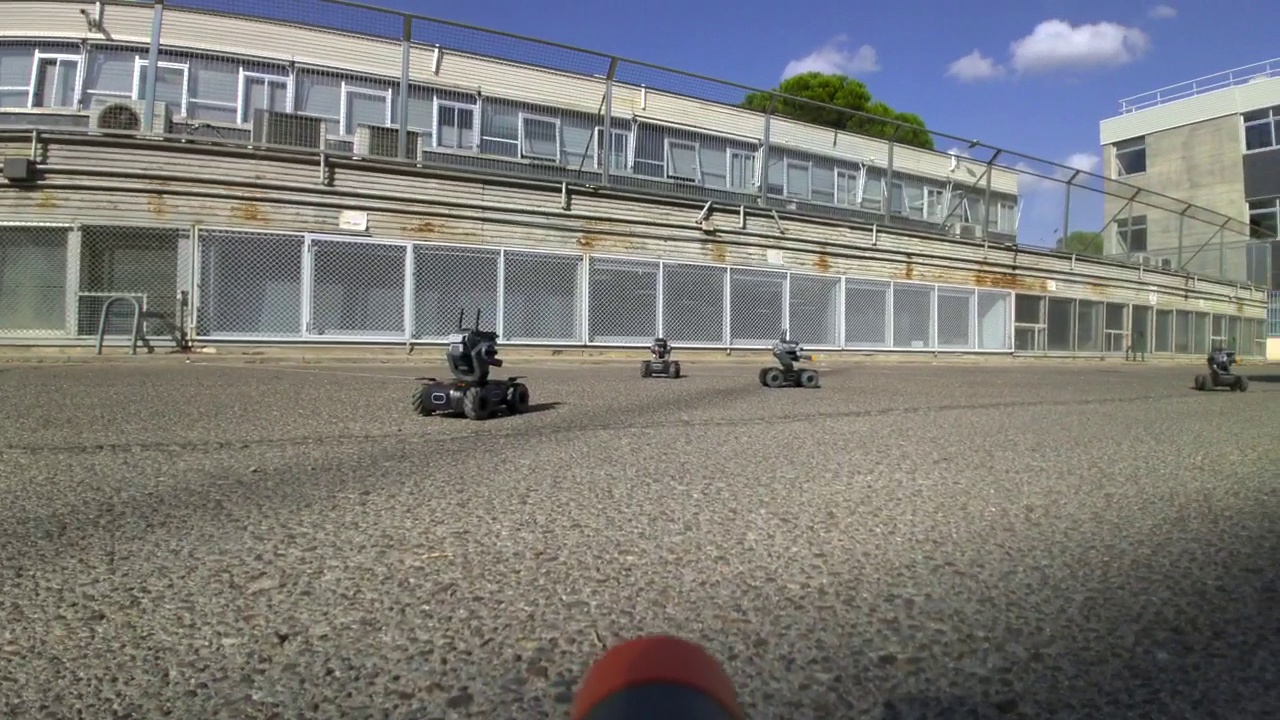robot: (411, 304, 532, 420), (759, 331, 822, 387), (1195, 335, 1247, 398), (642, 332, 682, 379)
